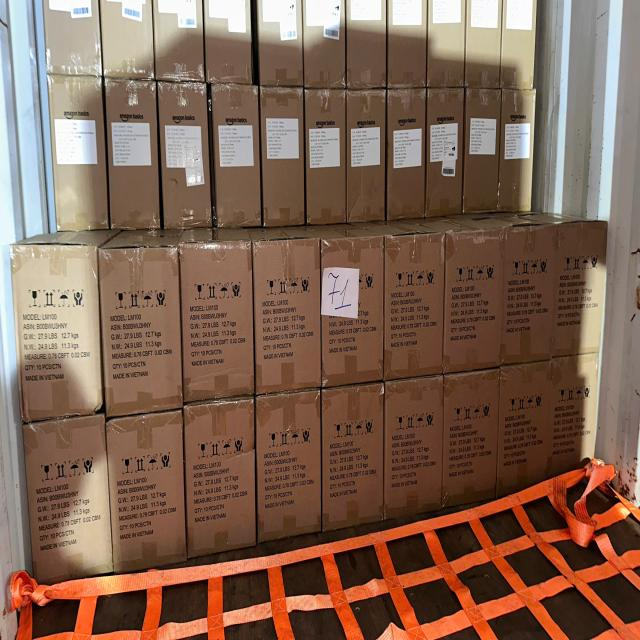Carton: (13, 248, 102, 424), (22, 414, 114, 578), (99, 247, 186, 413), (108, 411, 188, 570), (179, 242, 256, 400), (183, 400, 256, 554), (254, 237, 324, 387), (256, 391, 324, 535), (323, 235, 386, 382), (321, 390, 385, 528), (385, 233, 445, 374), (446, 233, 509, 367), (386, 377, 444, 515), (442, 374, 497, 504), (508, 226, 559, 361), (502, 363, 556, 490), (556, 223, 604, 354), (548, 354, 598, 470)
